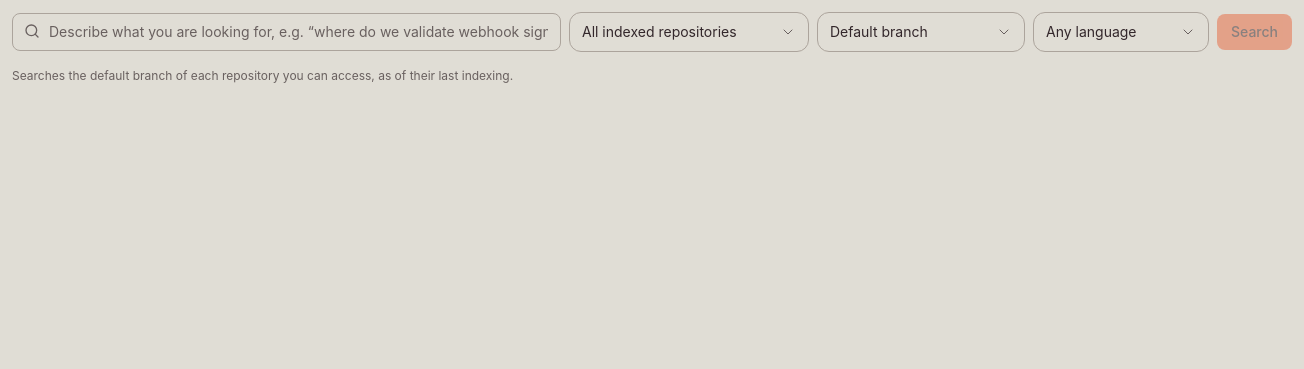
Test: search branch selector › explains when no repository is indexed on the chosen branch (graceful, not an error)
Type "database" into the field named "Search query" at (286, 32), box x1=12 y1=13 x2=561 y2=51
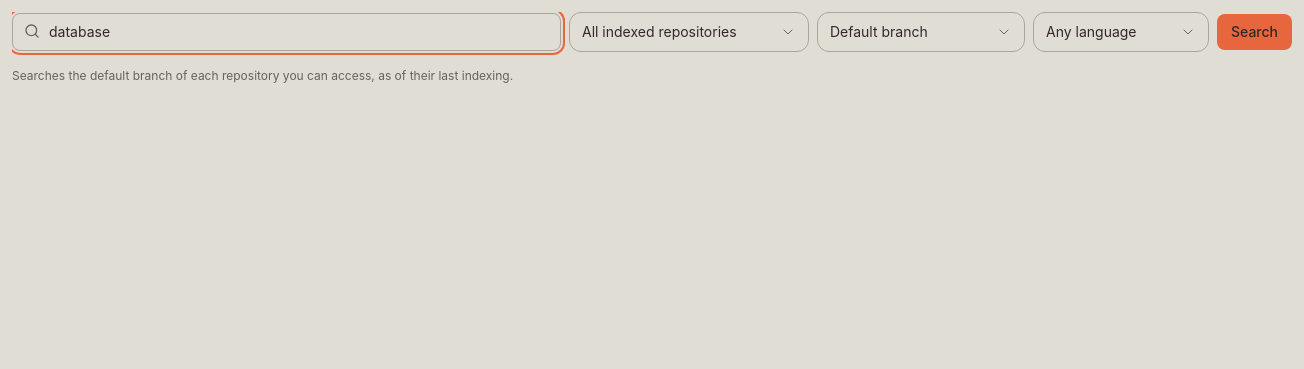
Click the dropdown labelled "branch" at (921, 32), box x1=817 y1=12 x2=1025 y2=52
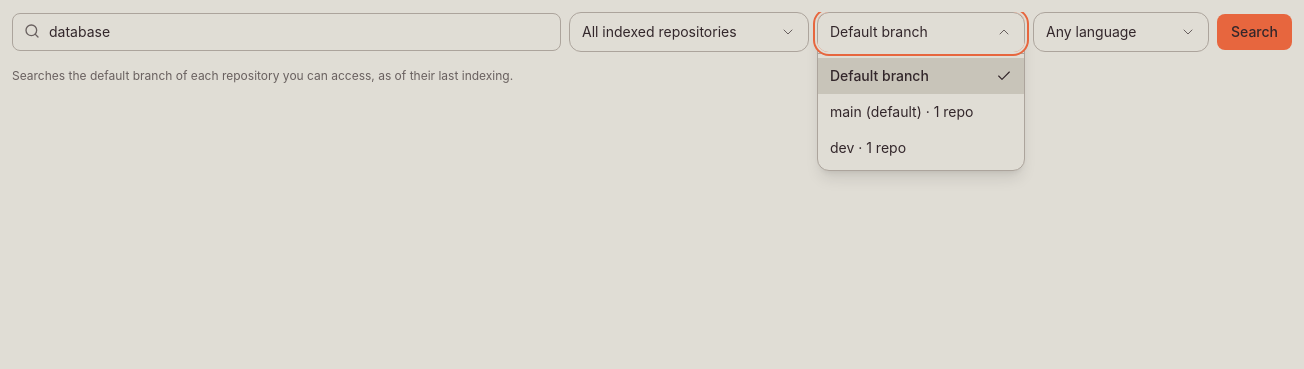
Click the option "dev · 1 repo" at (868, 148), box x1=830 y1=139 x2=906 y2=156
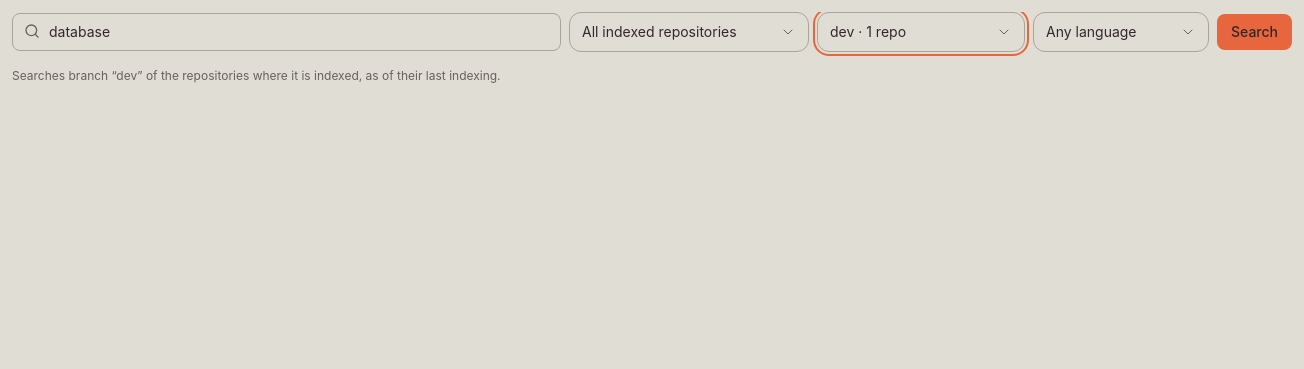
Click the button "Search" at (1254, 32), box x1=1217 y1=14 x2=1292 y2=50
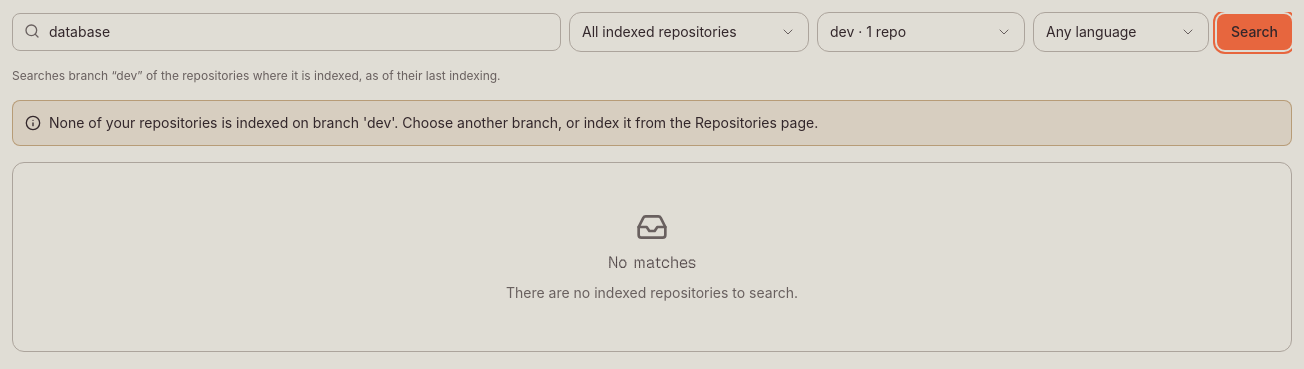
Now the text "None of your repositories is indexed on branch 'dev'" is shown, box x1=49 y1=114 x2=818 y2=131
